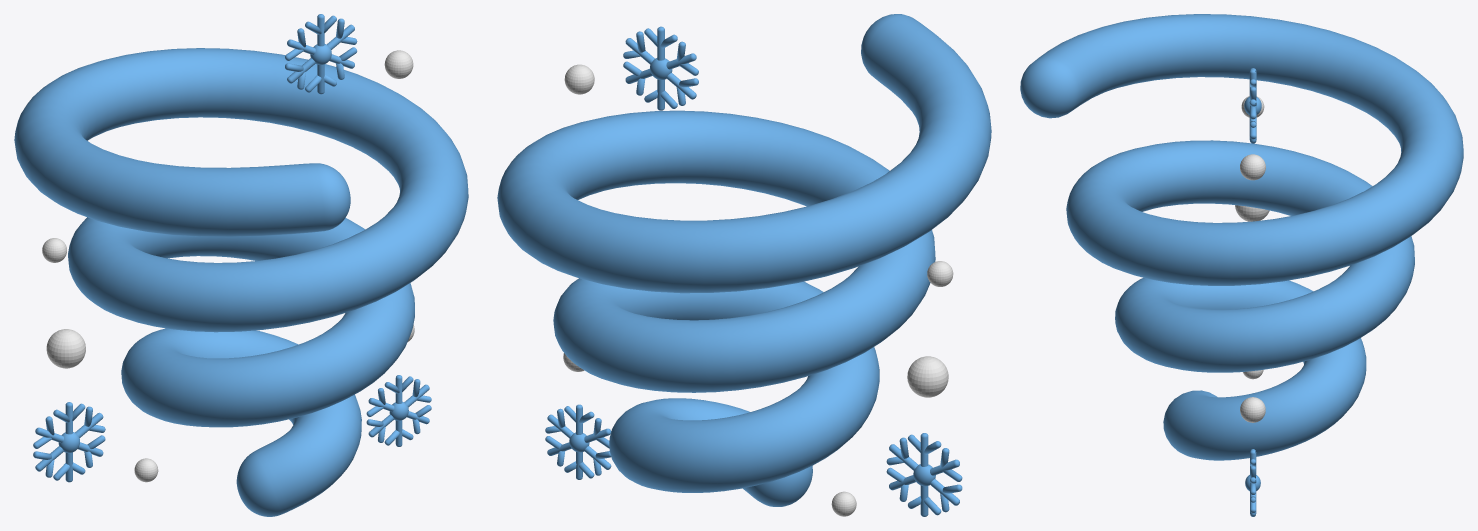
Rendered from blizzard.glb.
The picture shows the model from 3 angles, left to right: view 1: azimuth 30°, elevation 25°; view 2: azimuth 150°, elevation 25°; view 3: azimuth 270°, elevation 25°; orthographic projection. The views are drawn at different scales.
Parts seen in each view (by area): view 1: 0022; view 2: 0022; view 3: 0022.
Boxes of the visible parts, x1=… form: 0022: x1=14, y1=14, x2=468, y2=516; 0022: x1=497, y1=14, x2=991, y2=516; 0022: x1=1020, y1=14, x2=1463, y2=516.
Size of the model in its own units: 2.43 by 2.59 by 2.5.
